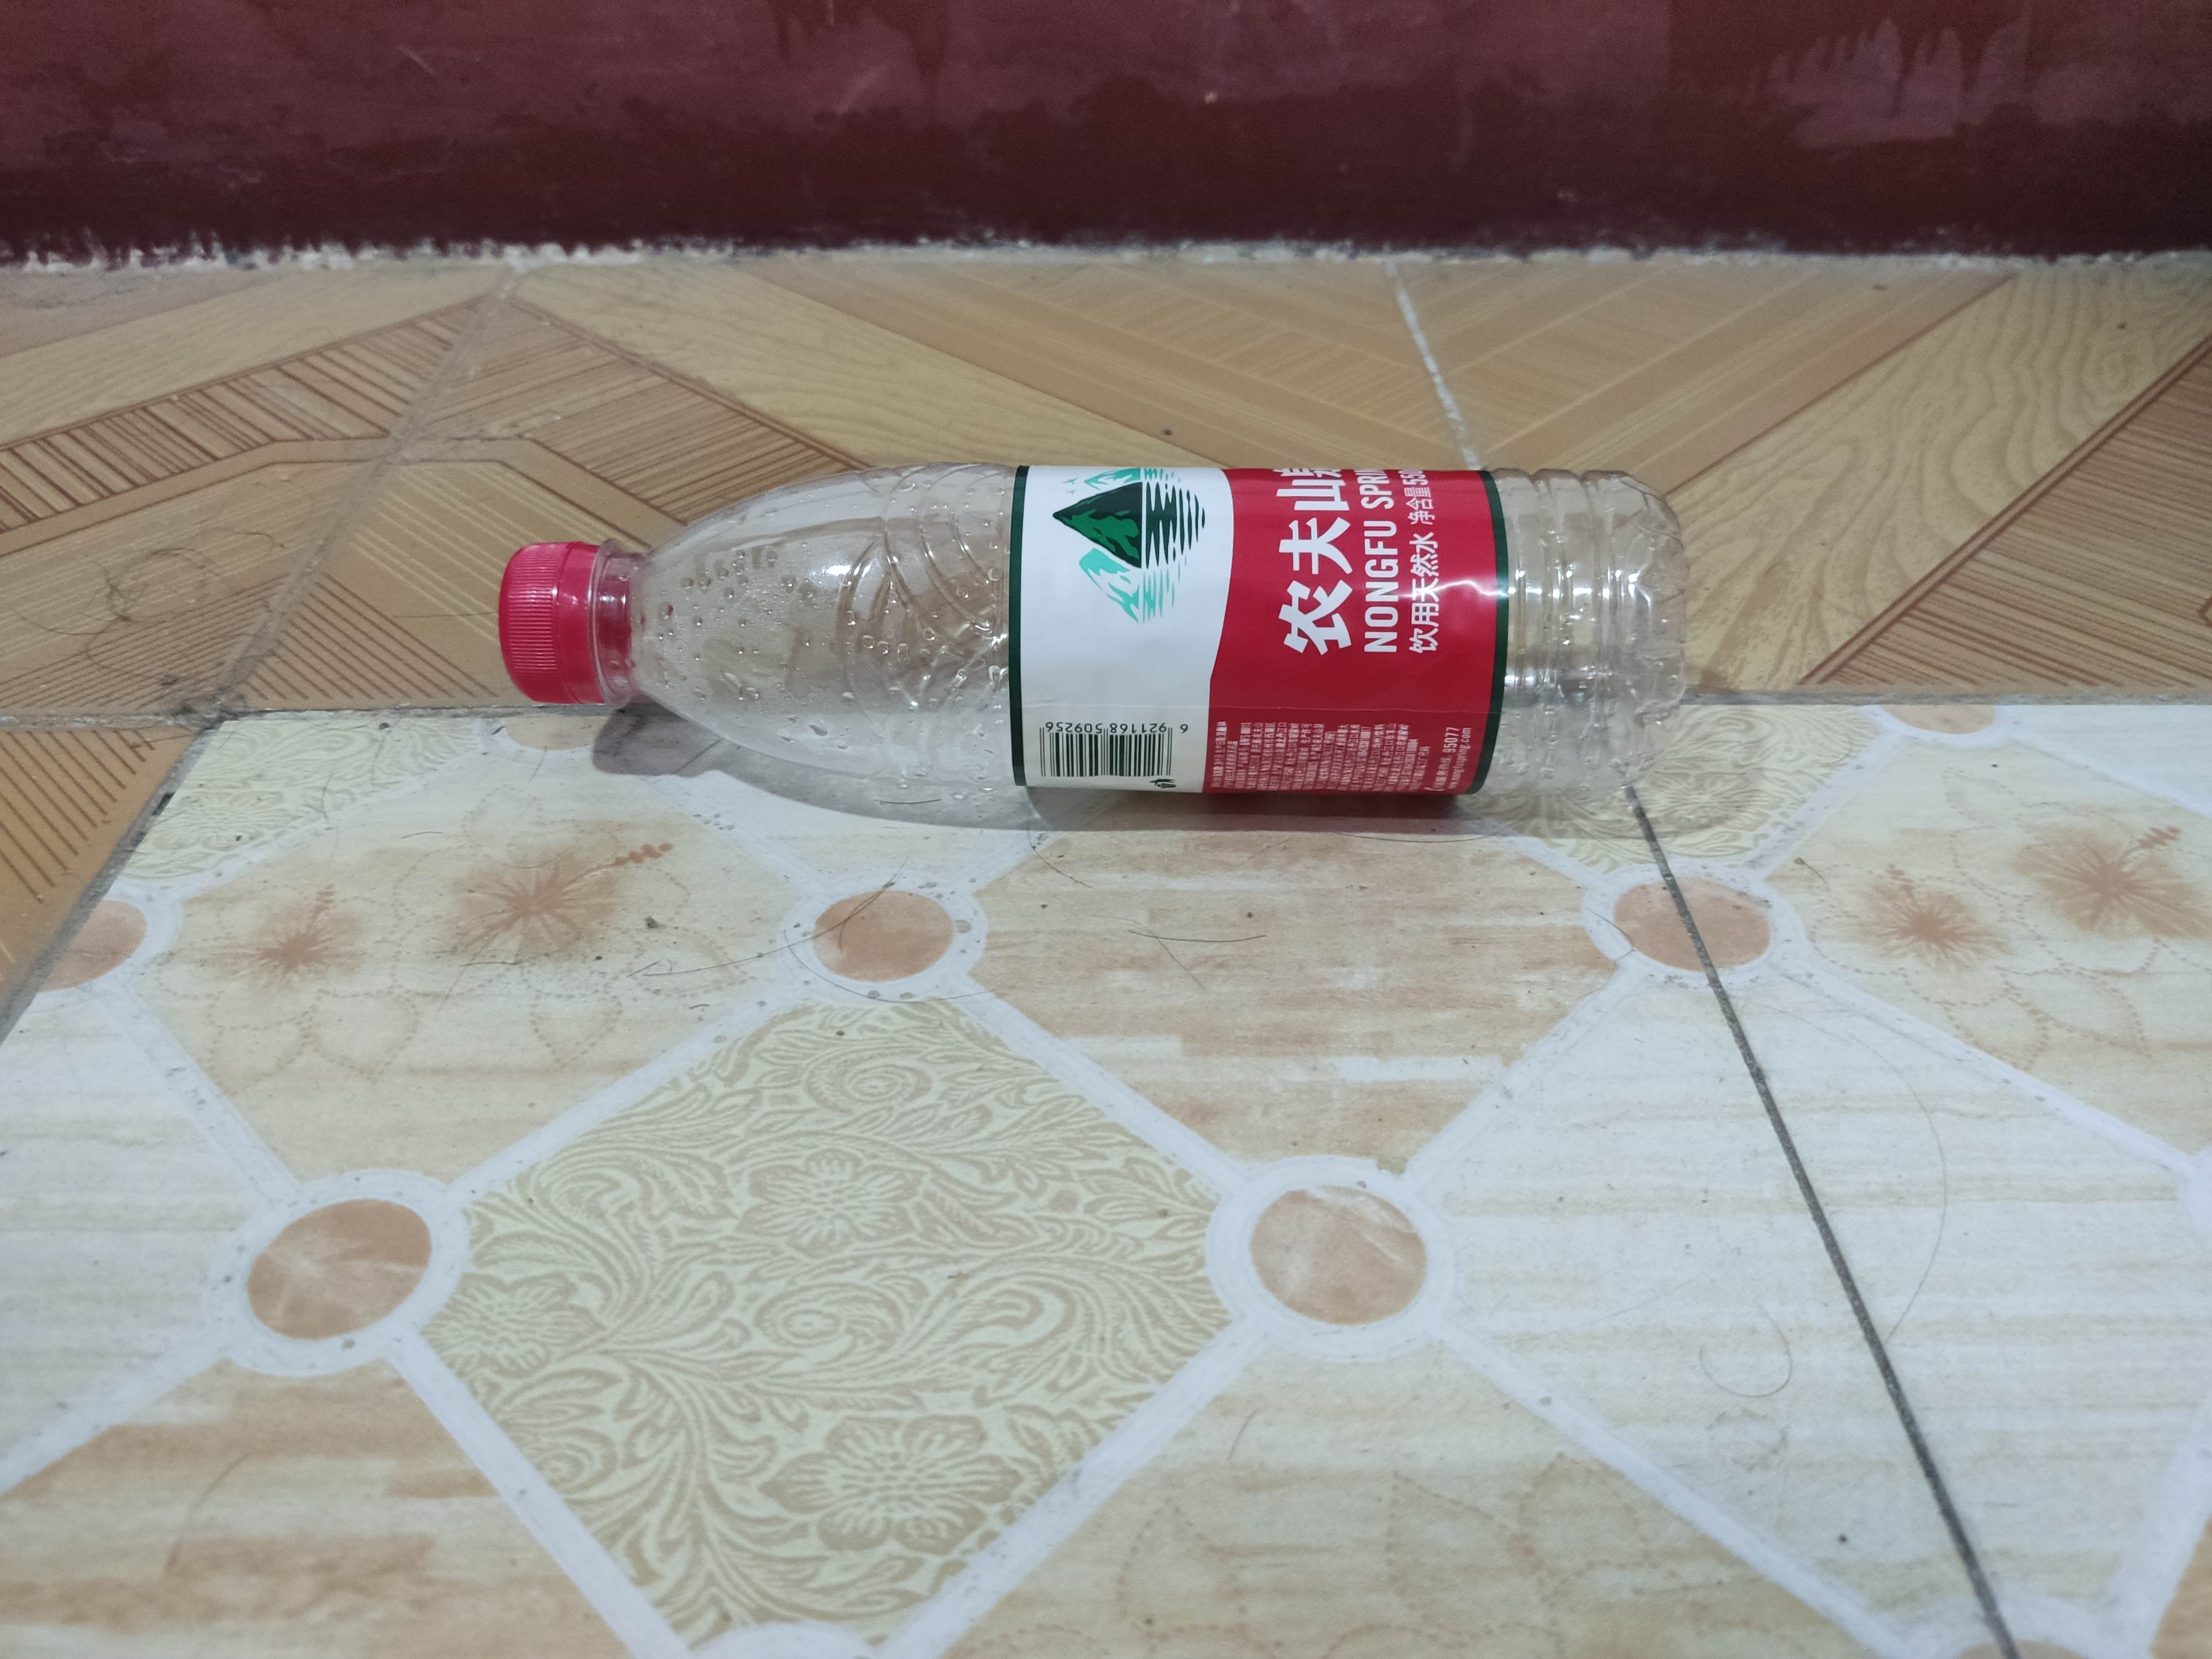Plastic Bottle: (495, 453, 1698, 805)
